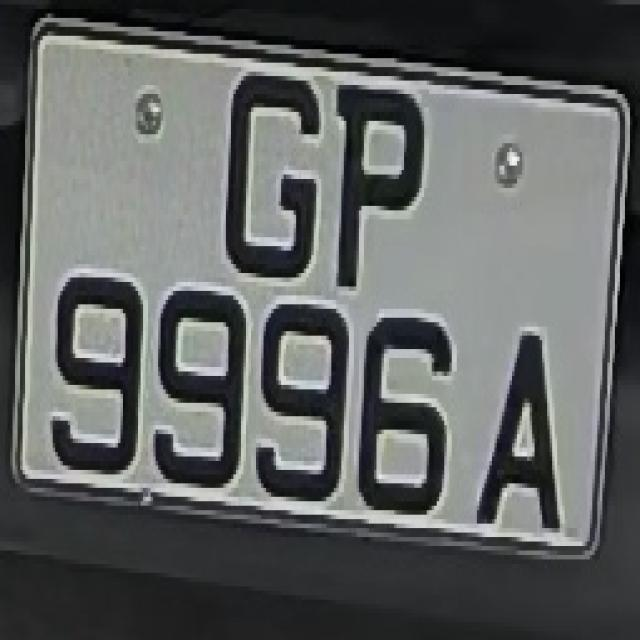6: (354, 304, 449, 533)
9: (153, 273, 256, 506), (248, 286, 356, 497), (50, 251, 146, 483)
A: (477, 322, 567, 560)
G: (214, 63, 326, 295)
P: (326, 62, 429, 278)
